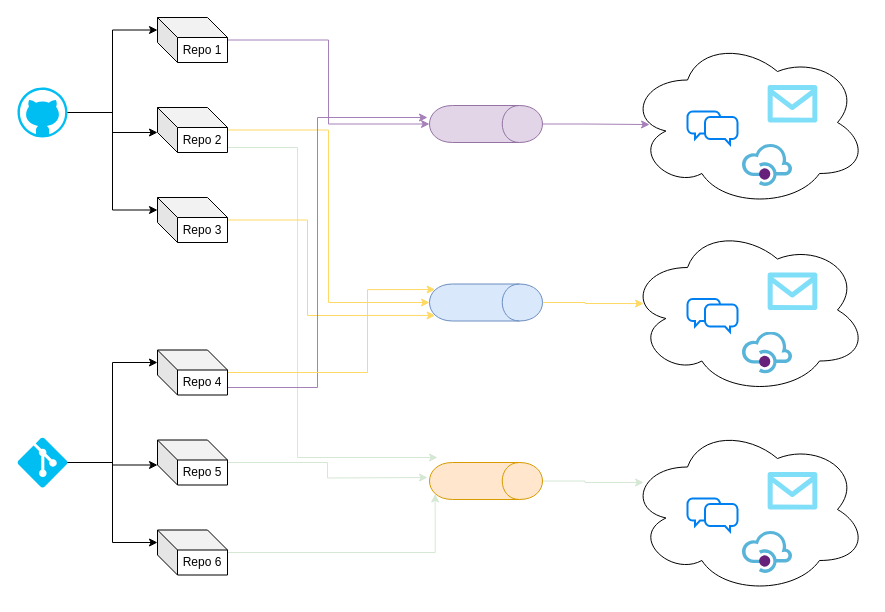
Image size: 885x612. Some labels were removed from this diagram. Here are the shapes that lost their labels. From the top down, the centre of each, then its label:
At [485,123]: "Pipe1".
At [485,302]: "Pipe2".
At [485,481]: "Pipe3".
